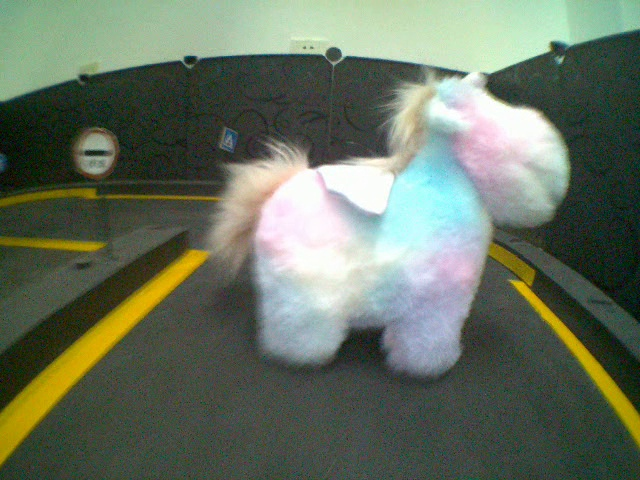unicorn: (203, 64, 568, 387)
